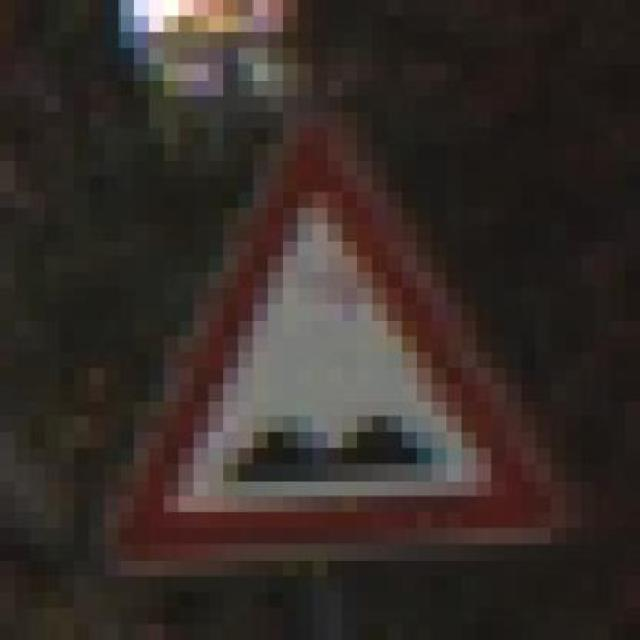Uneven Road: (90, 96, 596, 576)
